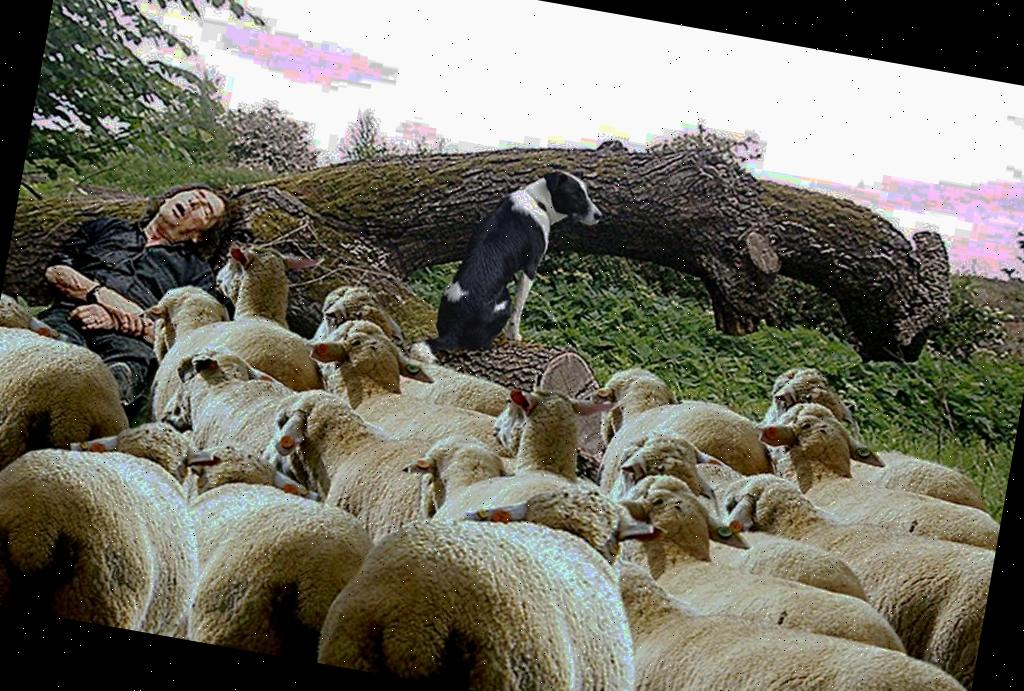Sheep: (315, 446, 692, 691), (701, 452, 1005, 691), (597, 458, 923, 670), (575, 531, 987, 691), (144, 432, 396, 670), (0, 384, 210, 635), (738, 356, 1008, 548), (0, 274, 156, 525), (297, 308, 520, 478), (125, 274, 328, 440), (577, 353, 775, 506), (265, 380, 442, 540), (152, 342, 329, 489), (468, 365, 612, 493)
